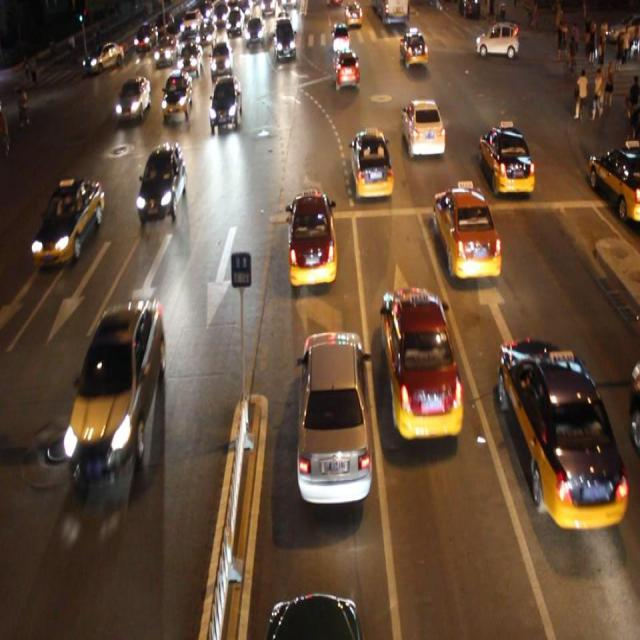car: (496, 335, 626, 528), (70, 301, 164, 471), (297, 328, 372, 506), (380, 282, 462, 437), (431, 178, 499, 278), (35, 177, 104, 264), (265, 586, 359, 640), (288, 182, 335, 287), (588, 140, 640, 224), (479, 120, 534, 198), (136, 145, 186, 218), (349, 127, 394, 201), (400, 99, 444, 161), (209, 76, 240, 131), (161, 72, 192, 118), (118, 78, 150, 119), (626, 352, 640, 443), (398, 27, 427, 68), (332, 49, 359, 90), (176, 42, 202, 74), (211, 42, 231, 74)
